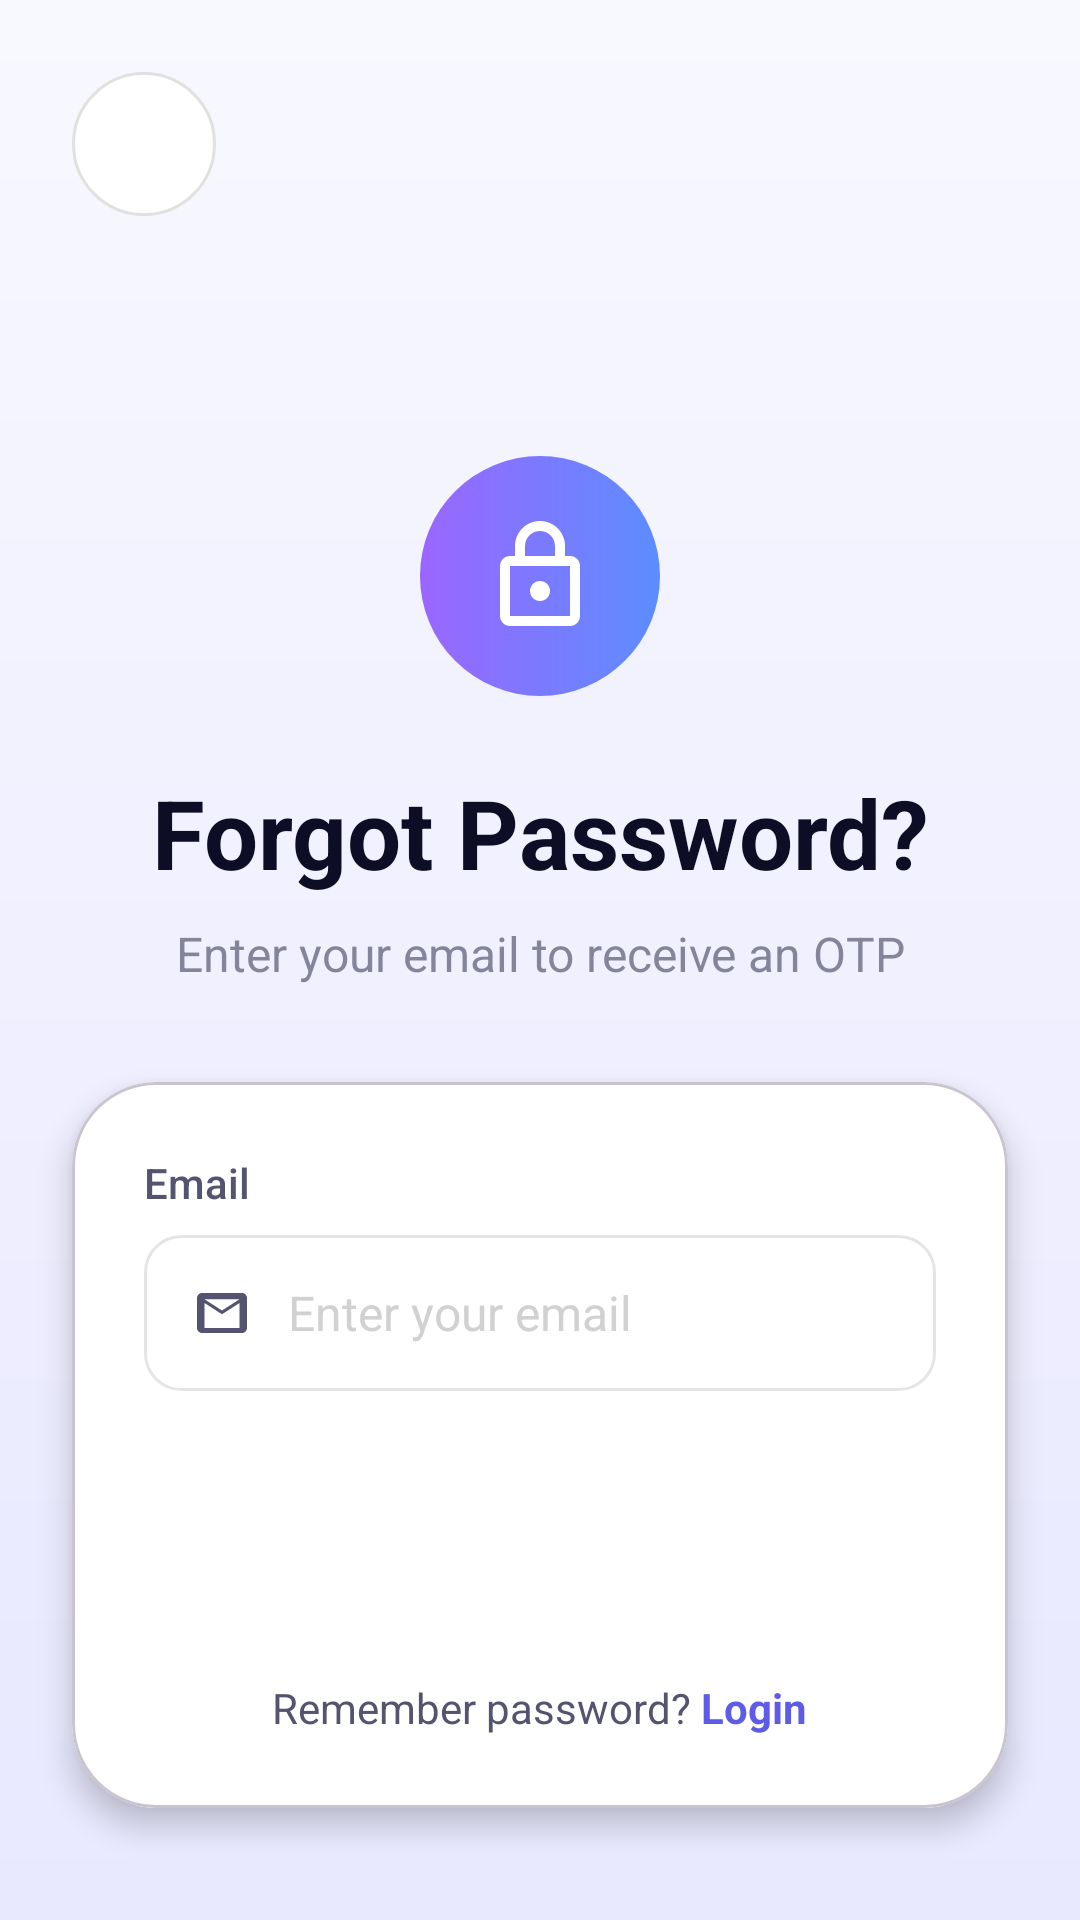

Screen size 1080×1920. Icon name, then its box in pixels as (x1, y1, x2, y2):
lock: (480, 516, 580, 636)
